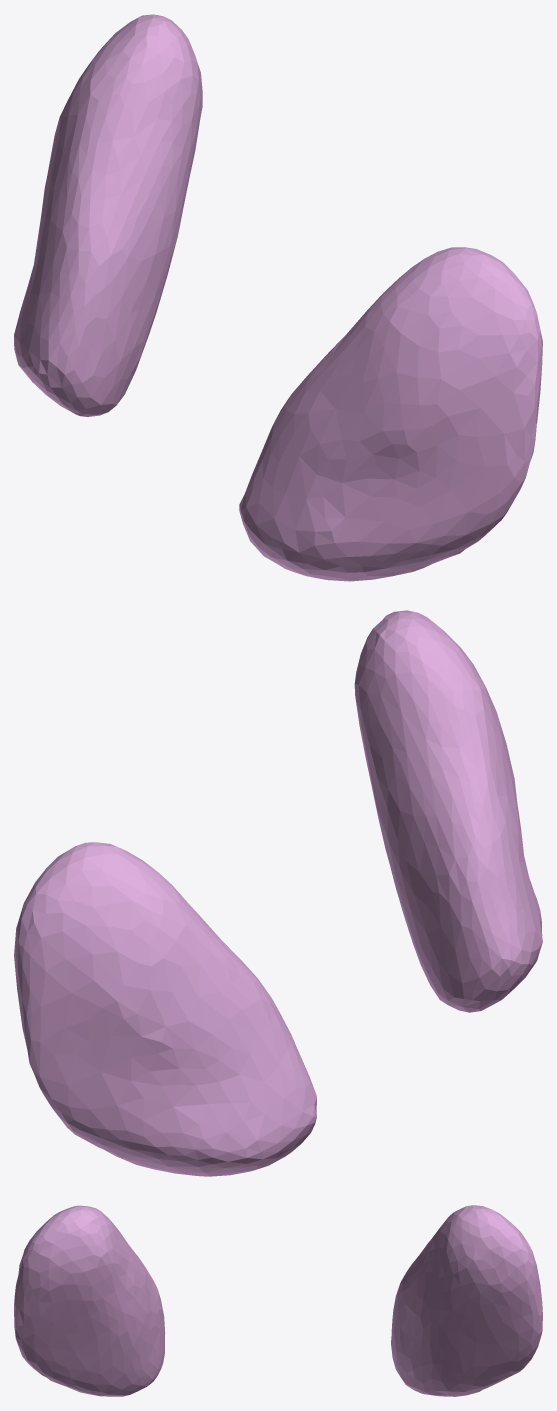
3 views of the same model, one above another, from view 1: azimuth 30°, elevation 25°; view 2: azimuth 150°, elevation 25°; view 3: azimuth 270°, elevation 25° (orthographic). The views are drawn at different scales.
Parts seen in each view (by area): view 1: 215.obj; view 2: 215.obj; view 3: 215.obj.
Boxes of the visible parts, x1=… form: 215.obj: x1=14, y1=14, x2=542, y2=581; 215.obj: x1=14, y1=610, x2=542, y2=1176; 215.obj: x1=14, y1=1205, x2=542, y2=1396.
Size of the model in its own units: 1089 by 1594 by 3577.
